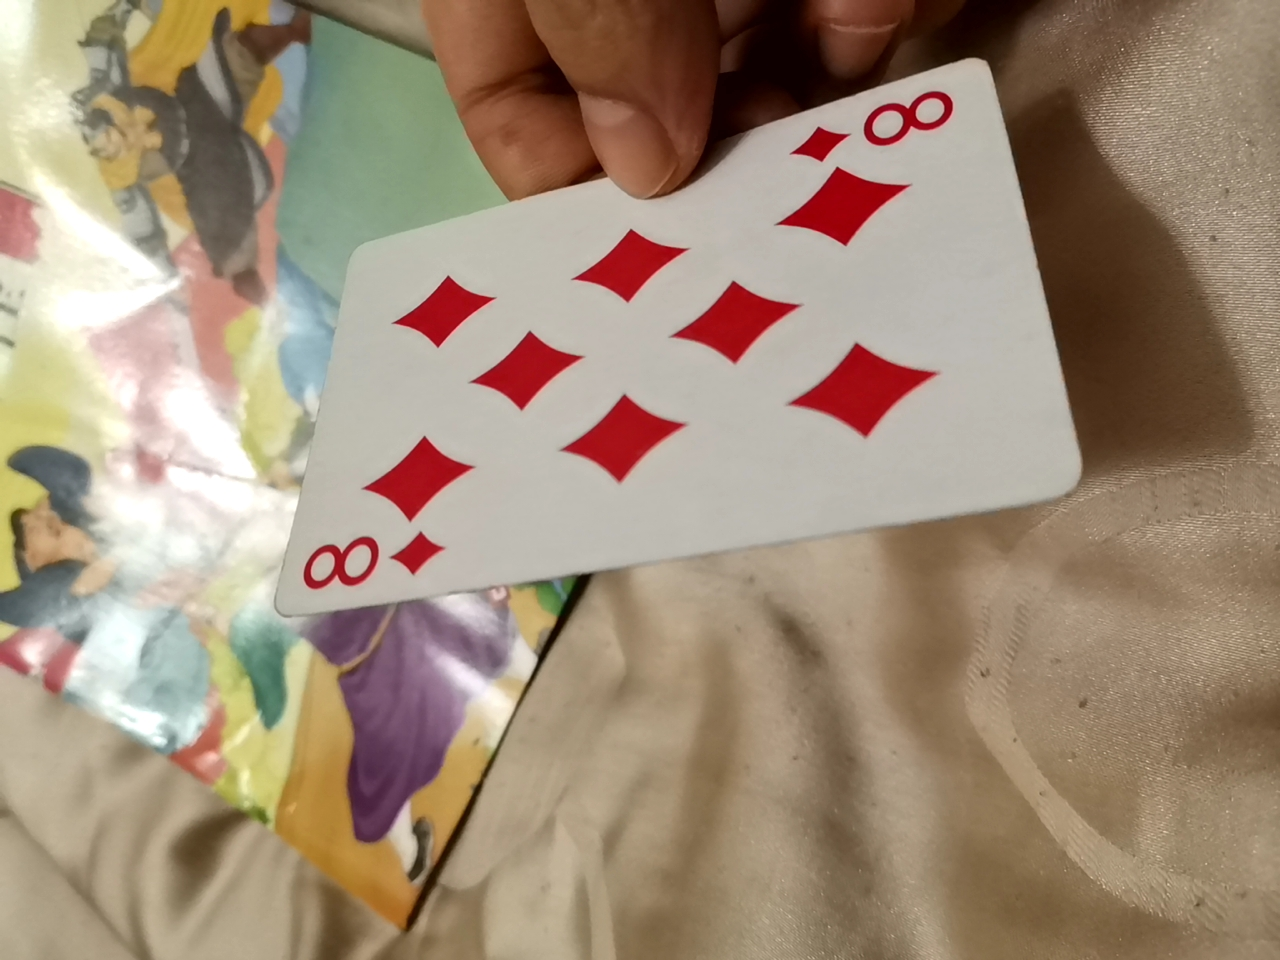fk 8: (295, 78, 1094, 627)
